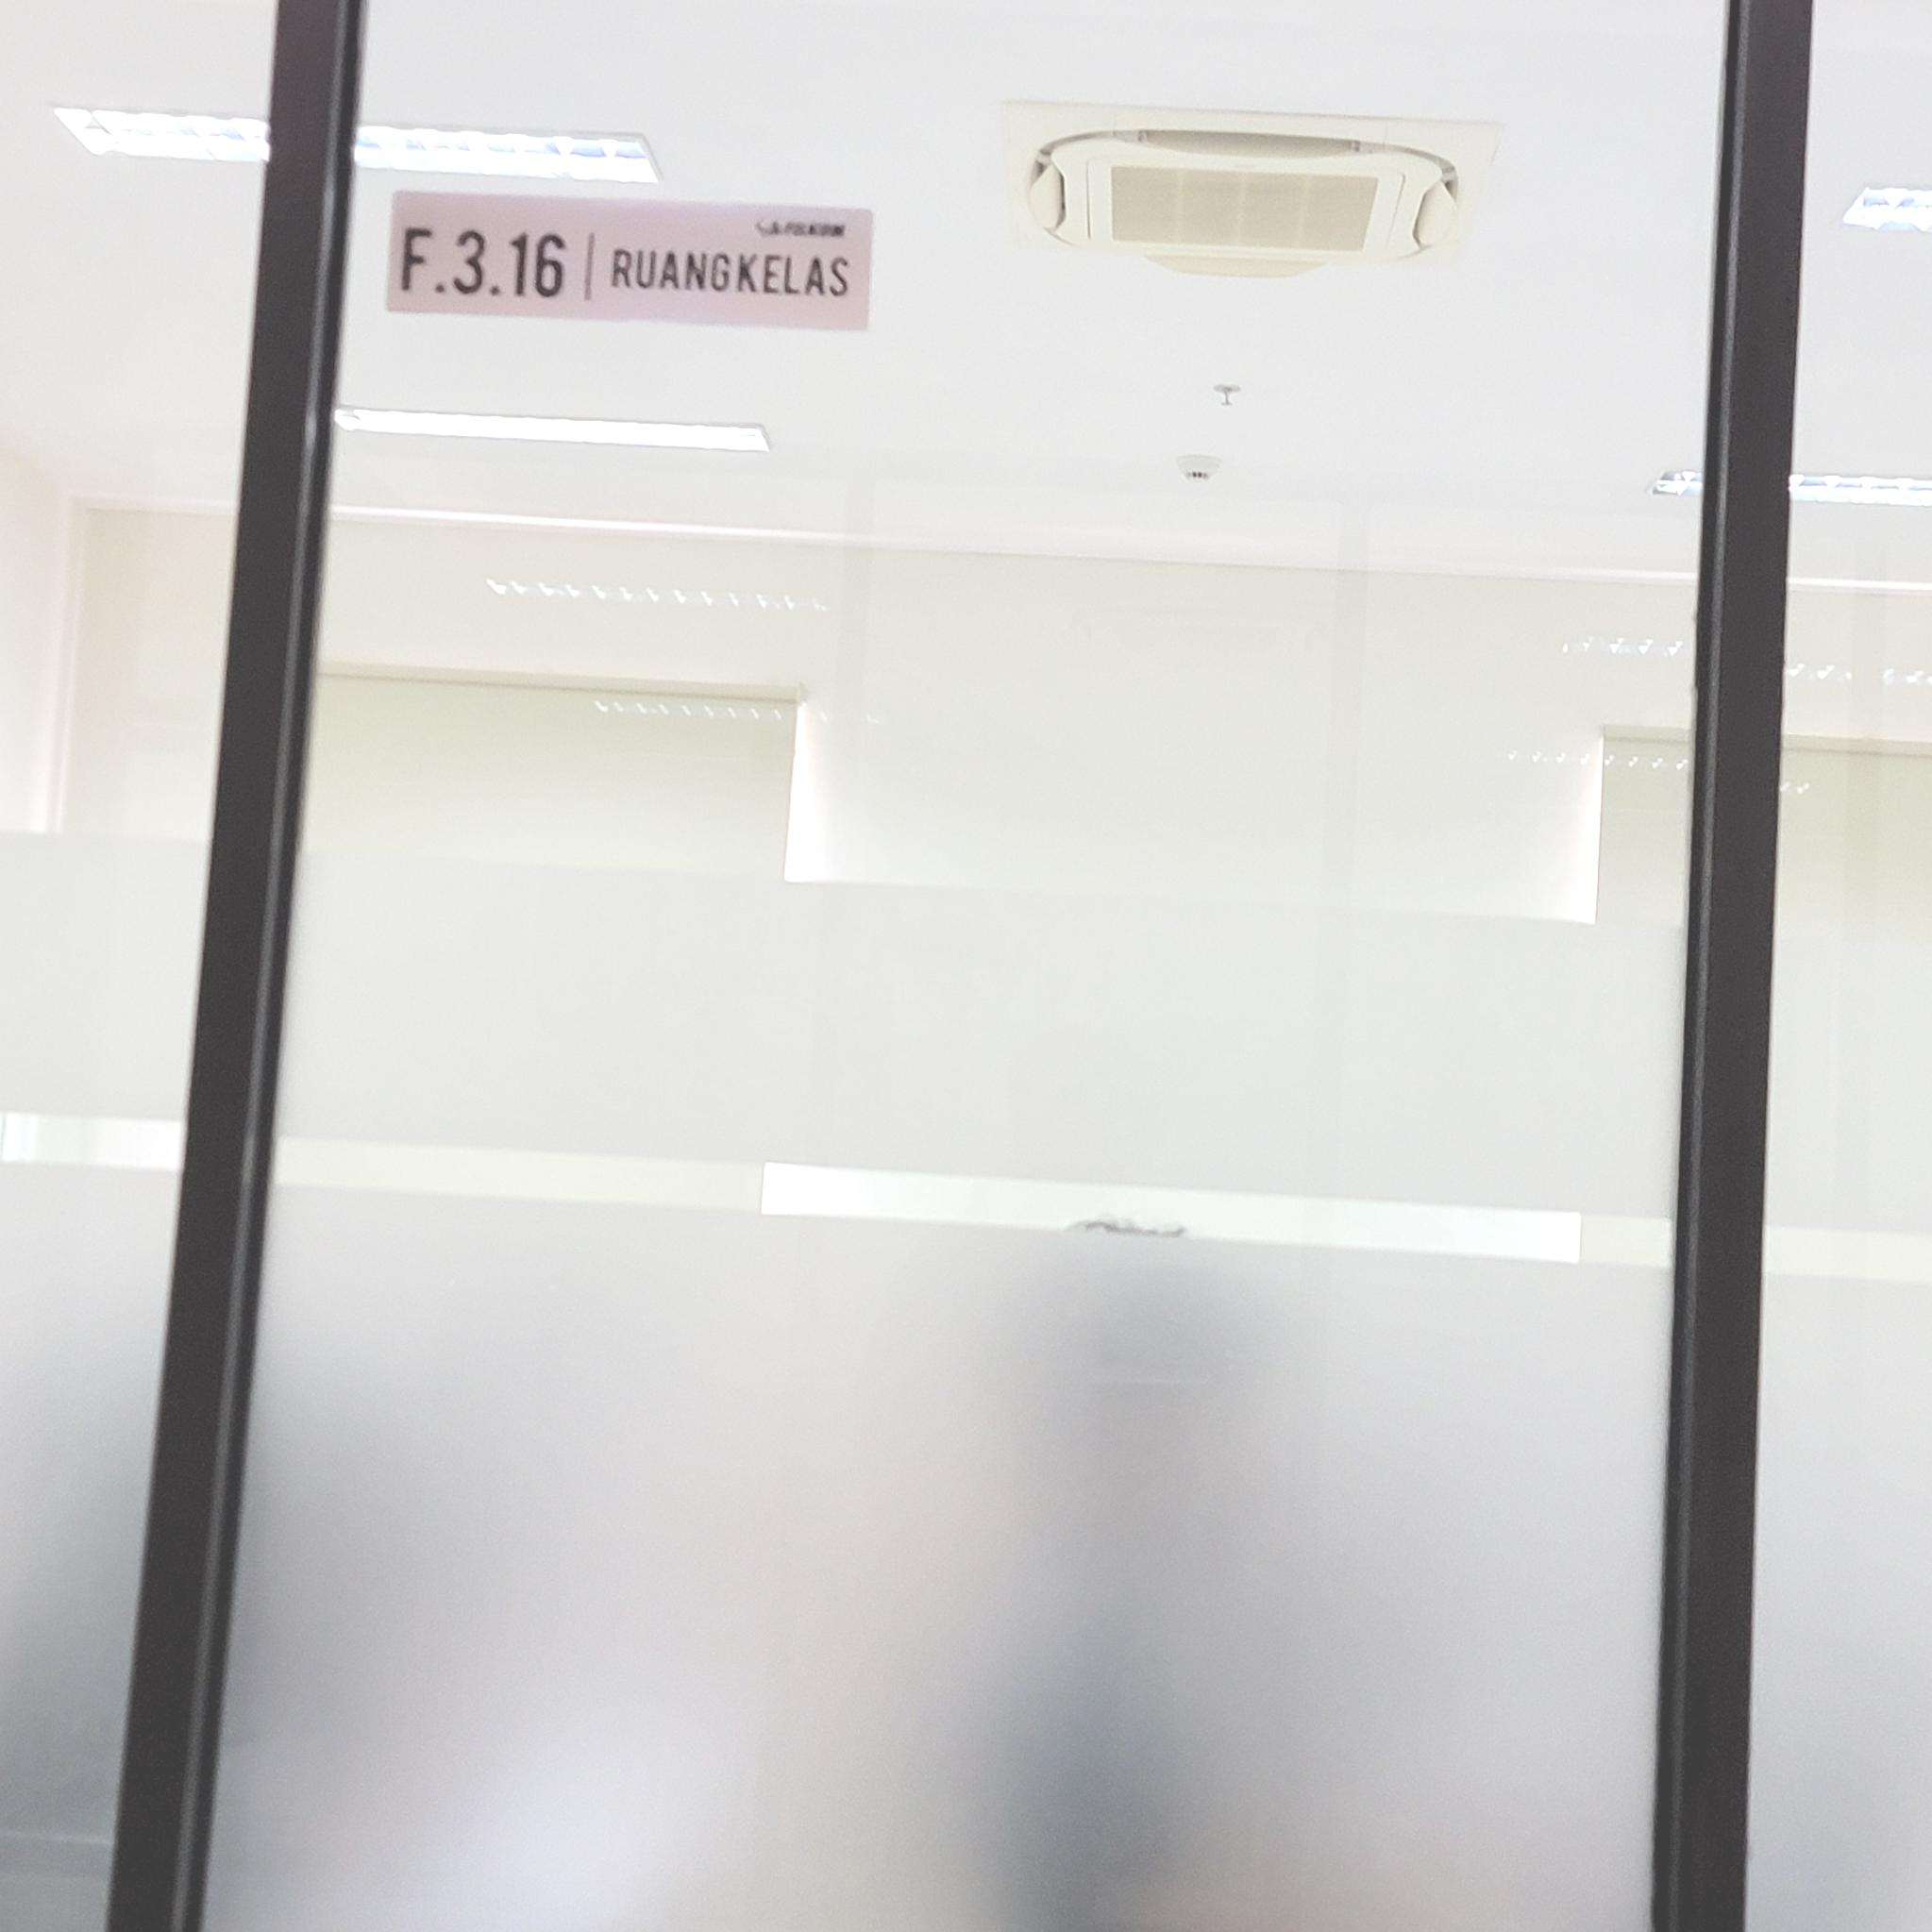plate: (382, 188, 874, 333)
